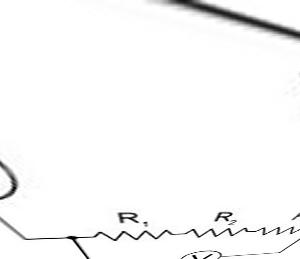resistor: (88, 223, 172, 246), (181, 216, 244, 241), (254, 217, 295, 243)
